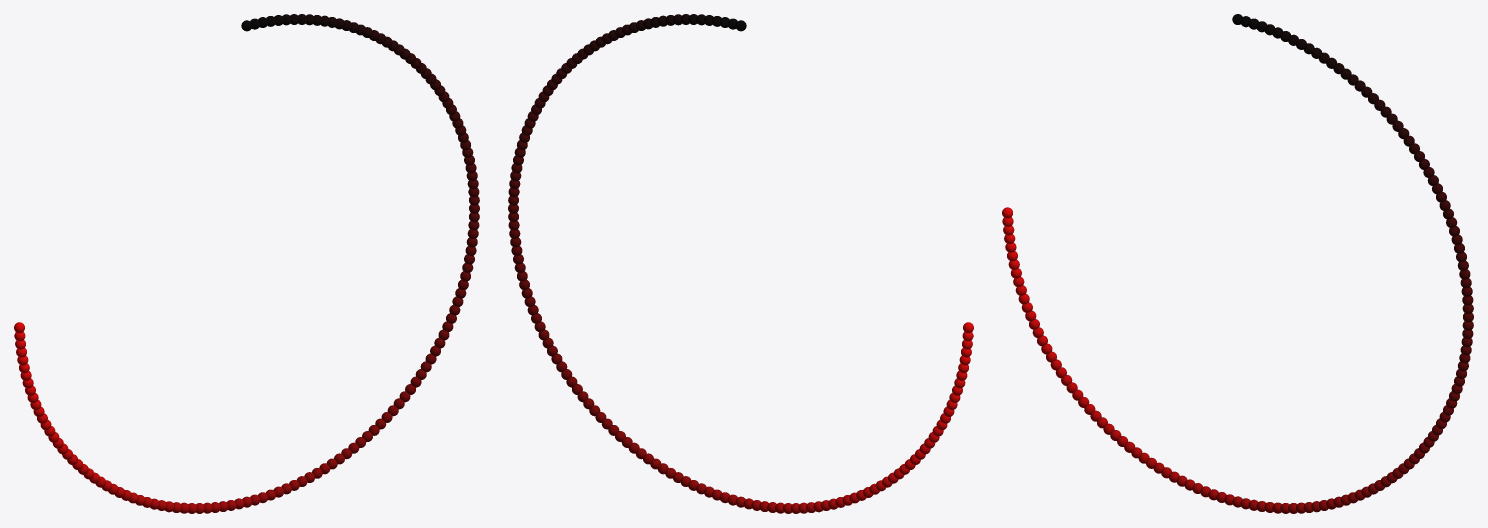
File: traj.obj
3 renders of one model, left to right at view 1: azimuth 30°, elevation 25°; view 2: azimuth 150°, elevation 25°; view 3: azimuth 330°, elevation 25°, orthographic.
Size of the model in its own units: 1.95 by 1.95 by 0.04.
